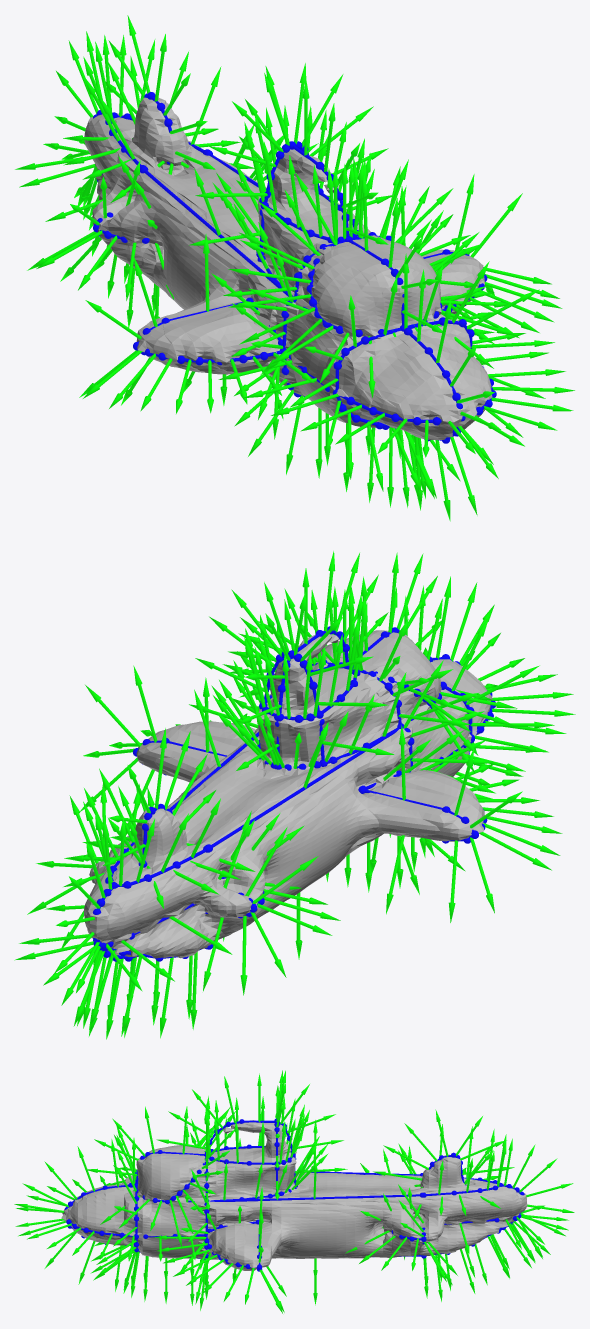
File: scaffolds3d_submarine.gltf
3 views of the same model, one above another, from view 1: azimuth 30°, elevation 25°; view 2: azimuth 150°, elevation 25°; view 3: azimuth 270°, elevation 25° (orthographic). The views are drawn at different scales.
Bounding box in the file's own units: 0.6358 × 0.4546 × 1.05.
